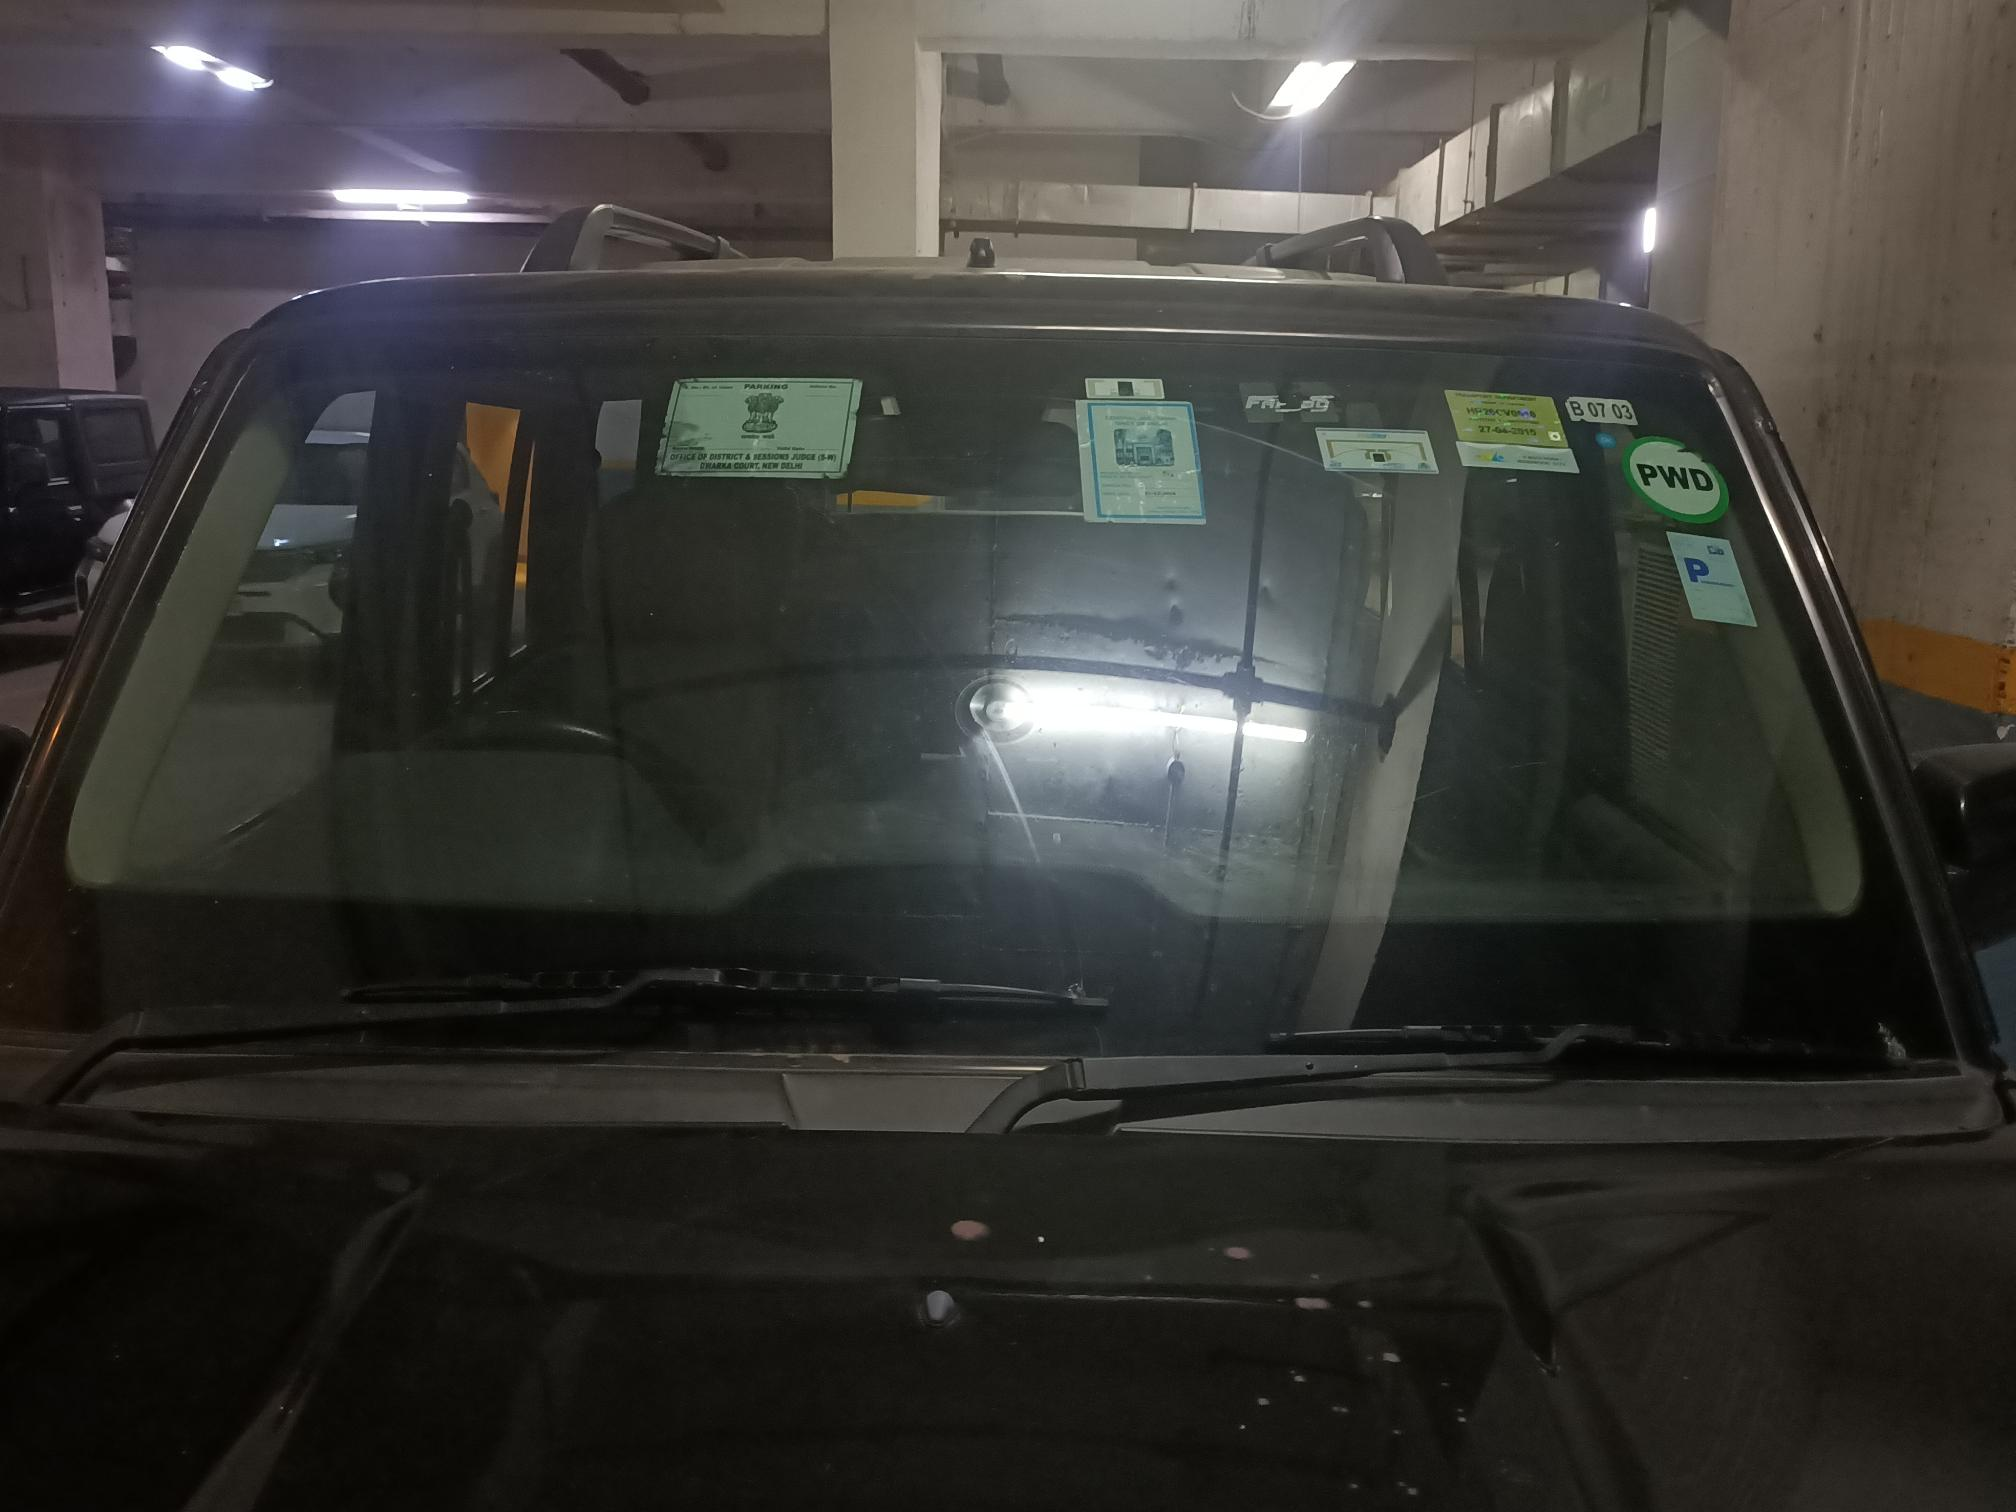FastTag: (1305, 419, 1443, 484)
not a FastTag: (641, 365, 860, 486), (1075, 400, 1211, 530), (1648, 529, 1770, 637), (1445, 391, 1589, 480), (1613, 435, 1740, 524), (1233, 368, 1341, 422), (1071, 378, 1184, 410), (1568, 384, 1640, 429)
